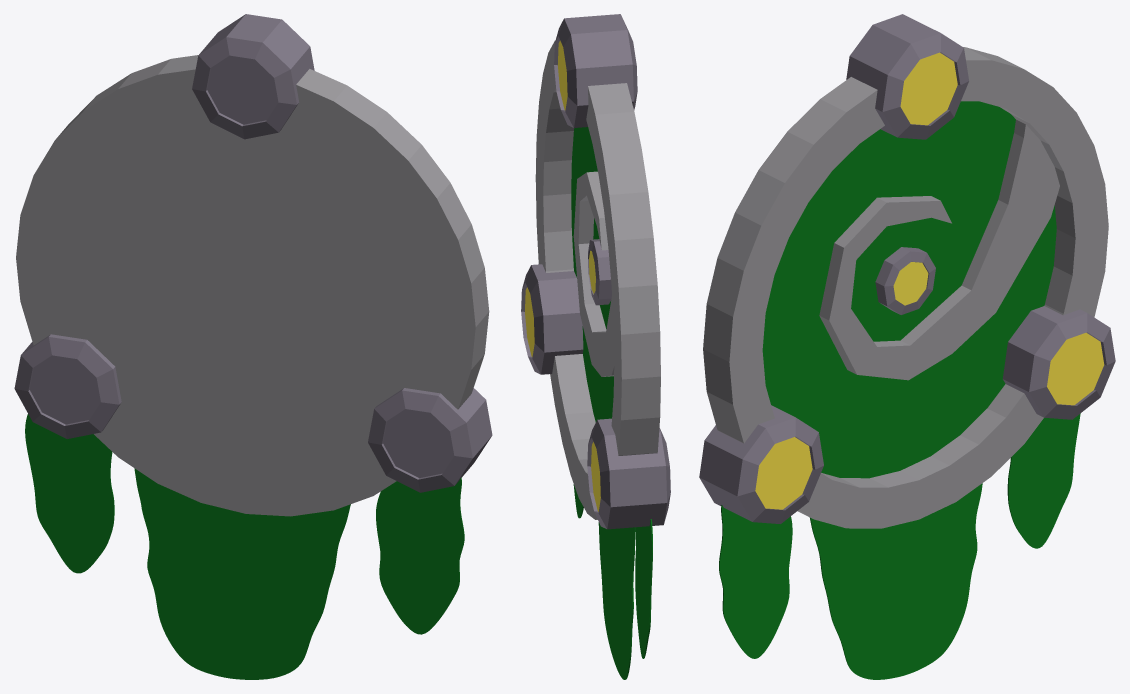
Rendered from Bandeira_verde.fbx.
3 views of the same model, side by side, from view 1: azimuth 30°, elevation 25°; view 2: azimuth 150°, elevation 25°; view 3: azimuth 270°, elevation 25° (orthographic). The views are drawn at different scales.
Parts seen in each view (by area): view 1: circulo 4; view 2: circulo 4; view 3: circulo 4.
Boxes of the visible parts, x1,y1,x2,y2 form: circulo 4: (14, 14, 492, 679); circulo 4: (521, 14, 670, 679); circulo 4: (699, 14, 1115, 679).
Size of the model in its own units: 3.12 by 6.19 by 3.56.
4 materials, 1 textured.
